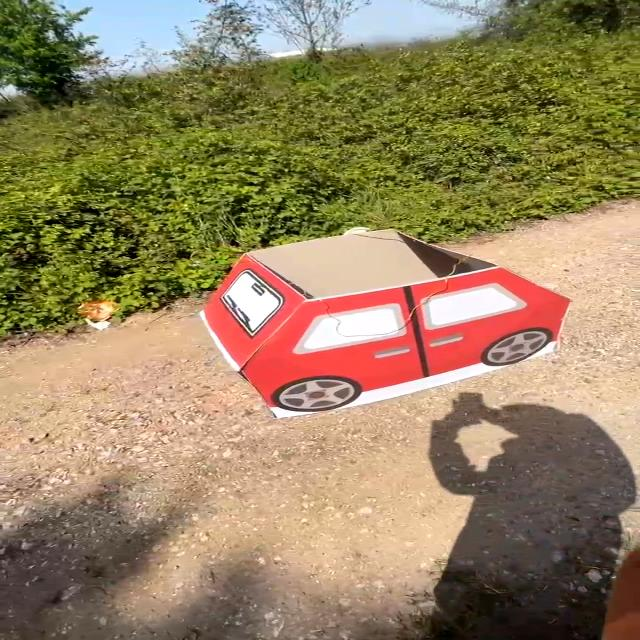red_car: (196, 221, 584, 417)
